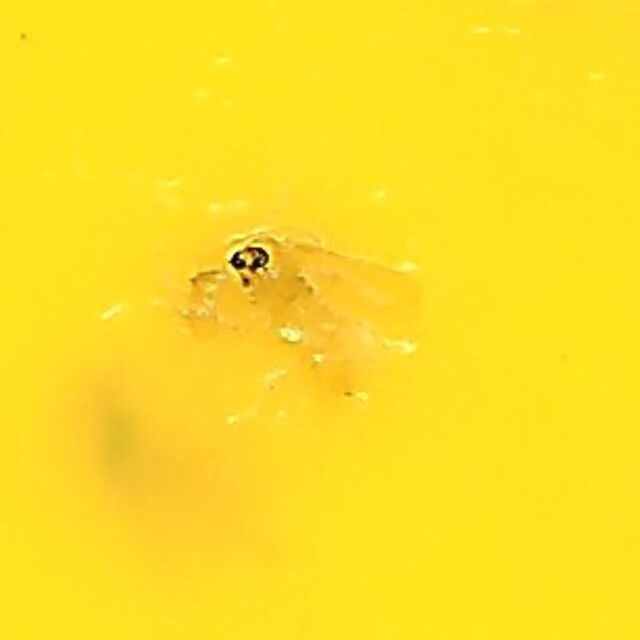Nematocera: (208, 223, 432, 417)
